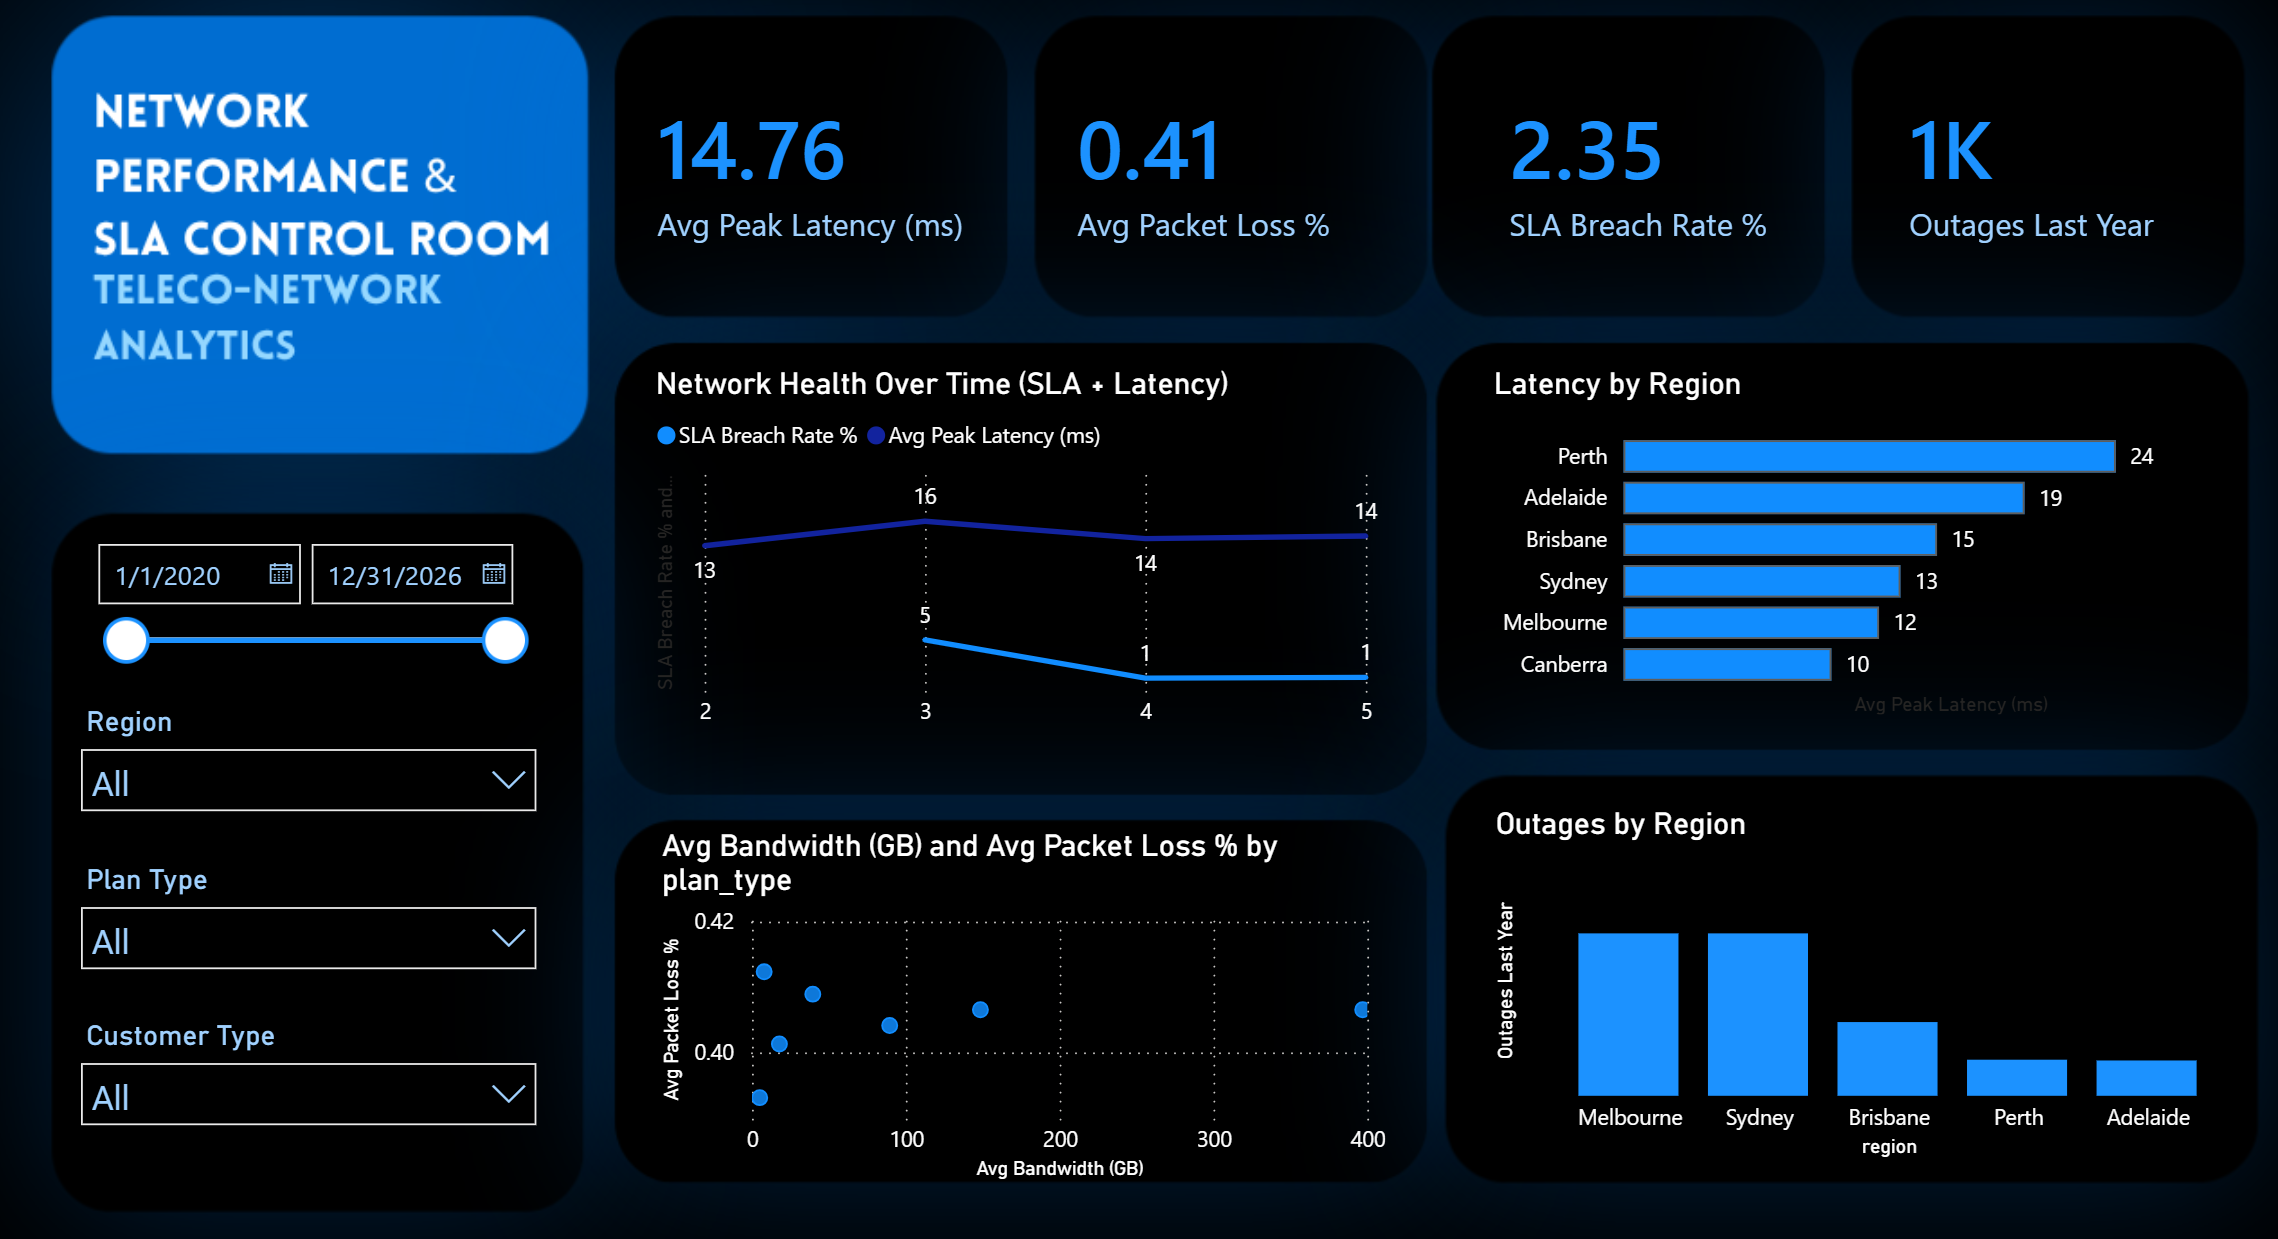

What the dashboard file says about the page in this screenshot:
{"tool":"powerbi","page":{"name":"Network Performance and SLA","canvas":[1280,720],"ordinal":1},"visuals":[{"type":"cardVisual","fields":{"Data":["facttelemetry.Avg Peak Latency (ms)"]},"box":[345.7,44.3,232.9,121.4],"z":0},{"type":"cardVisual","fields":{"Data":["facttelemetry.Avg Packet Loss %"]},"box":[578.6,44.3,225.7,121.4],"z":1000},{"type":"cardVisual","fields":{"Data":["facttelemetry.SLA Breach Rate %"]},"box":[818.6,44.3,211.4,121.4],"z":2000},{"type":"cardVisual","fields":{"Data":["facttelemetry.Outages Last Year"]},"box":[1041.4,44.3,238.6,121.4],"z":3000},{"type":"lineChart","title":" Network Health Over Time (SLA + Latency)","fields":{"Category":["dimdate.month"],"Y":["facttelemetry.SLA Breach Rate %","facttelemetry.Avg Peak Latency (ms)"]},"box":[368.6,215.7,414.3,210],"z":4000},{"type":"clusteredBarChart","title":"Latency by Region","fields":{"Category":["dimregion.region"],"Y":["facttelemetry.Avg Peak Latency (ms)"]},"box":[834.3,215.7,445.7,198.6],"z":5000},{"type":"columnChart","title":"Outages by Region","fields":{"Y":["facttelemetry.Outages Last Year"],"Category":["dimregion.region"]},"box":[835,460,430,200],"z":6000},{"type":"slicer","fields":{"Values":["dimdate.date"]},"box":[51.4,304.3,260,94.3],"z":7000},{"type":"slicer","fields":{"Values":["dimregion.region"]},"box":[44.3,398.6,272.9,72.9],"z":8000},{"type":"slicer","fields":{"Values":["dimcustomer.plan_type"]},"box":[44.3,487.1,272.9,72.9],"z":9000},{"type":"slicer","fields":{"Values":["dimcustomer.customer_type"]},"box":[44.3,572.9,272.9,72.9],"z":10000},{"type":"scatterChart","fields":{"X":["facttelemetry.Avg Bandwidth (GB)"],"Y":["facttelemetry.Avg Packet Loss %"],"Category":["dimcustomer.plan_type"]},"box":[371.8,472.7,411.8,200],"z":11000}]}

Visuals, with their boxes on the page's 1280x720 design canvas (x1, y1, x2, y2). These are canvas units, not pixel positions in the 2278x1239 screenshot, which may show the page scaled, cropped or inside an application window:
cardVisual - facttelemetry.Avg Peak Latency (ms): [x1=346, y1=44, x2=579, y2=166]
cardVisual - facttelemetry.Avg Packet Loss %: [x1=579, y1=44, x2=804, y2=166]
cardVisual - facttelemetry.SLA Breach Rate %: [x1=819, y1=44, x2=1030, y2=166]
cardVisual - facttelemetry.Outages Last Year: [x1=1041, y1=44, x2=1280, y2=166]
" Network Health Over Time (SLA + Latency)" lineChart: [x1=369, y1=216, x2=783, y2=426]
"Latency by Region" clusteredBarChart: [x1=834, y1=216, x2=1280, y2=414]
"Outages by Region" columnChart: [x1=835, y1=460, x2=1265, y2=660]
slicer - dimdate.date: [x1=51, y1=304, x2=311, y2=399]
slicer - dimregion.region: [x1=44, y1=399, x2=317, y2=472]
slicer - dimcustomer.plan_type: [x1=44, y1=487, x2=317, y2=560]
slicer - dimcustomer.customer_type: [x1=44, y1=573, x2=317, y2=646]
scatterChart - facttelemetry.Avg Bandwidth (GB) x facttelemetry.Avg Packet Loss %: [x1=372, y1=473, x2=784, y2=673]
